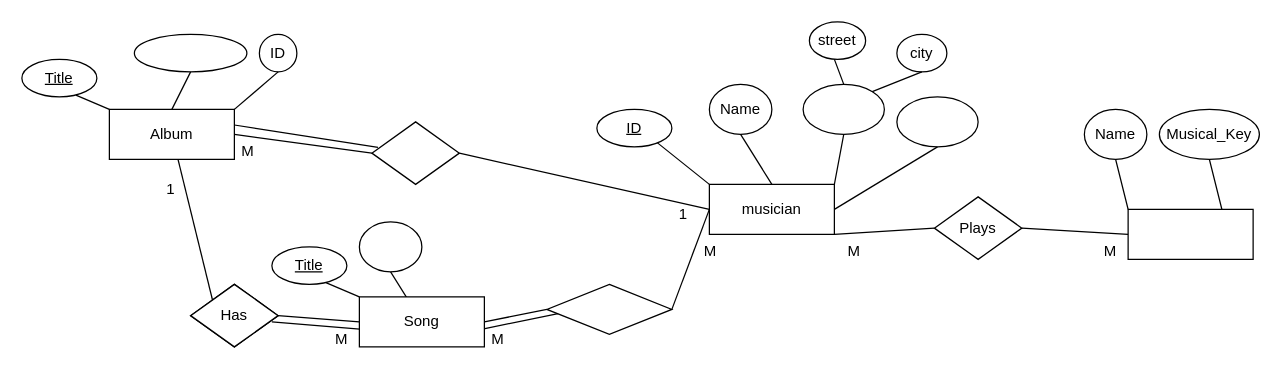
Some shapes in this 1281 by 385 pixel diagram are drawn without their labels. The centre of each missing label's shape, as x and y in pixels:
Address: the point at 843,108
Author: the point at 390,246
coyright_date: the point at 190,52
Instrument: the point at 1190,233
performs: the point at 609,308
Phone: the point at 937,121
produced: the point at 415,152
